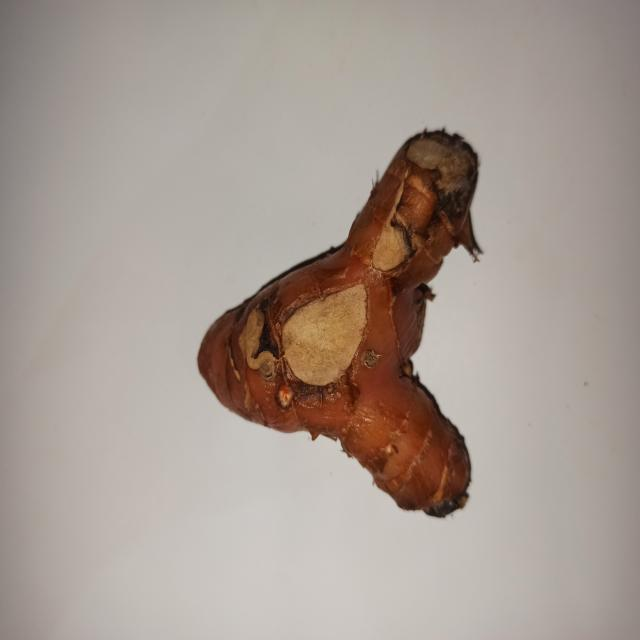ginger: (200, 130, 486, 492)
